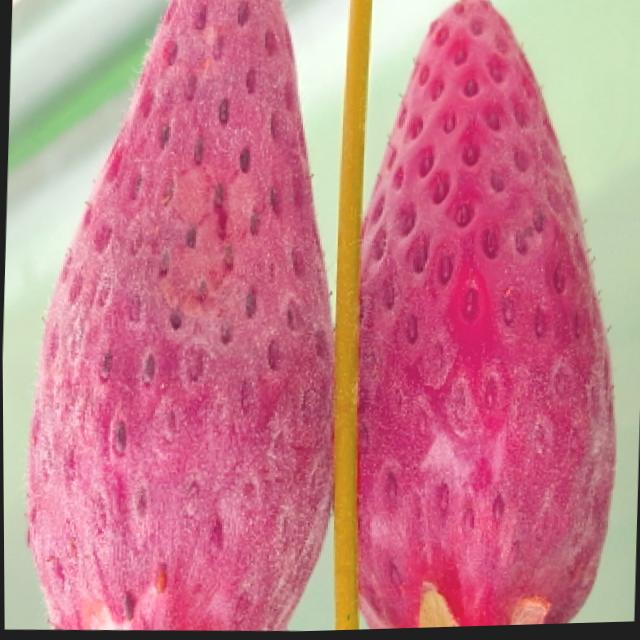Powdery Mildew Fruit: (21, 0, 336, 632), (352, 0, 615, 631)
